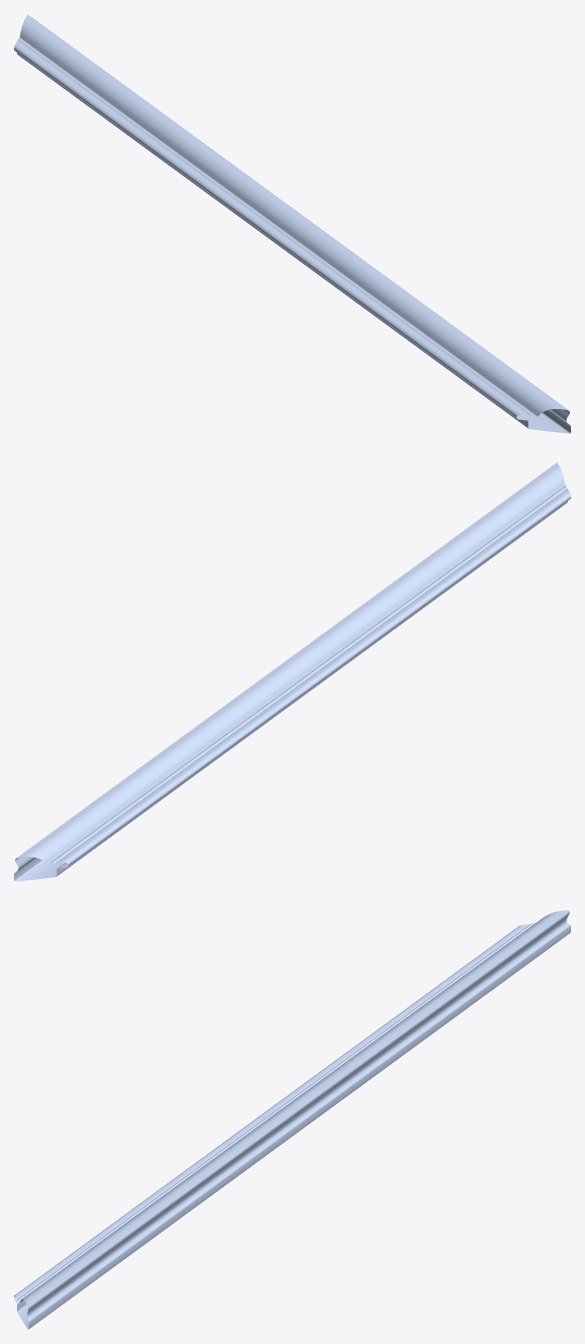
3 renders of one model, top to bottom at view 1: azimuth 30°, elevation 25°; view 2: azimuth 150°, elevation 25°; view 3: azimuth 330°, elevation 25°, orthographic.
Visible parts, largest first — view 1: final.002; view 2: final.002; view 3: final.002.
Part boxes in pixels (left/top/right/bottom): final.002: left=14, top=14, right=570, bottom=433; final.002: left=14, top=462, right=570, bottom=881; final.002: left=14, top=910, right=570, bottom=1329.
Bounding box in the file's own units: 2.82 × 1.86 × 76.97.
